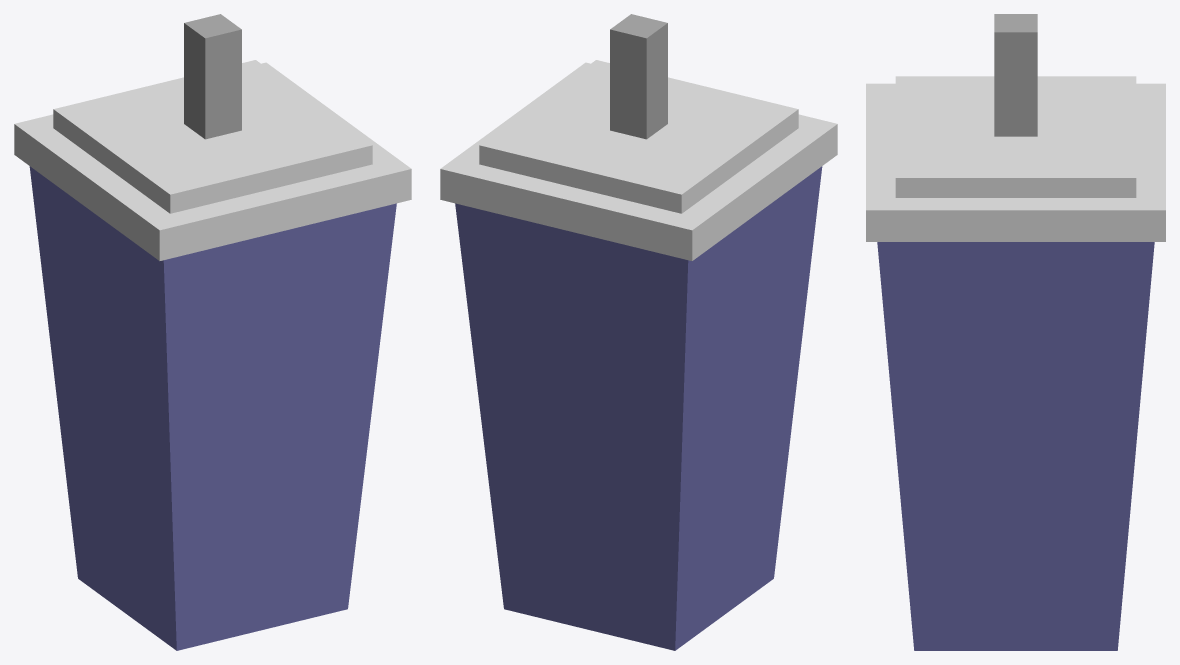
Rendered from FastFoodCupBlue.fbx.
The picture shows the model from 3 angles, left to right: view 1: azimuth 30°, elevation 25°; view 2: azimuth 150°, elevation 25°; view 3: azimuth 270°, elevation 25°; orthographic projection. The views are drawn at different scales.
Parts seen in each view (by area): view 1: FastFoodCupRedBlue; view 2: FastFoodCupRedBlue; view 3: FastFoodCupRedBlue.
Part boxes in pixels (x1,y1,x2,y2): FastFoodCupRedBlue: (14,14,411,650); FastFoodCupRedBlue: (440,14,837,650); FastFoodCupRedBlue: (866,14,1165,650).
Bounding box in the file's own units: 0.1551 × 0.3339 × 0.1551.
